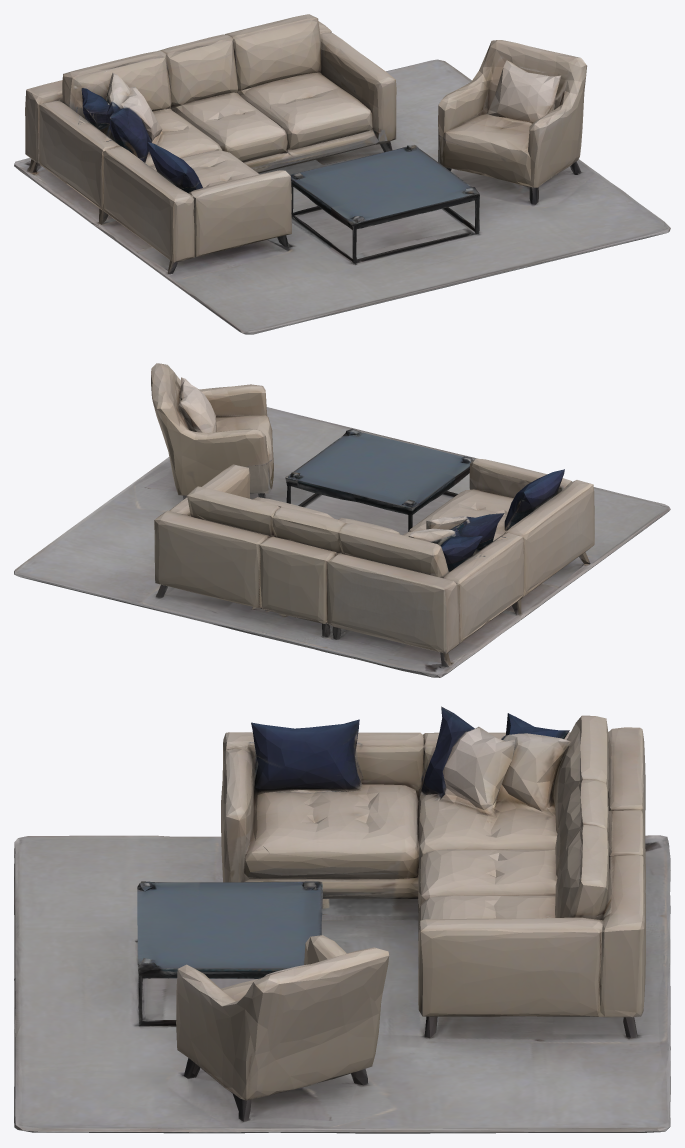
File: 방재실_가구__0524073142_texture.fbx
3 renders of one model, top to bottom at view 1: azimuth 30°, elevation 25°; view 2: azimuth 150°, elevation 25°; view 3: azimuth 270°, elevation 25°, orthographic. The views are drawn at different scales.
Visible parts, largest first — view 1: temp; view 2: temp; view 3: temp.
Boxes of the visible parts, x1,y1,x2,y2 form: temp: (14, 14, 670, 334); temp: (14, 363, 670, 677); temp: (14, 706, 670, 1133).
Size of the model in its own units: 200 by 48.67 by 189.
1 material, 1 textured.
